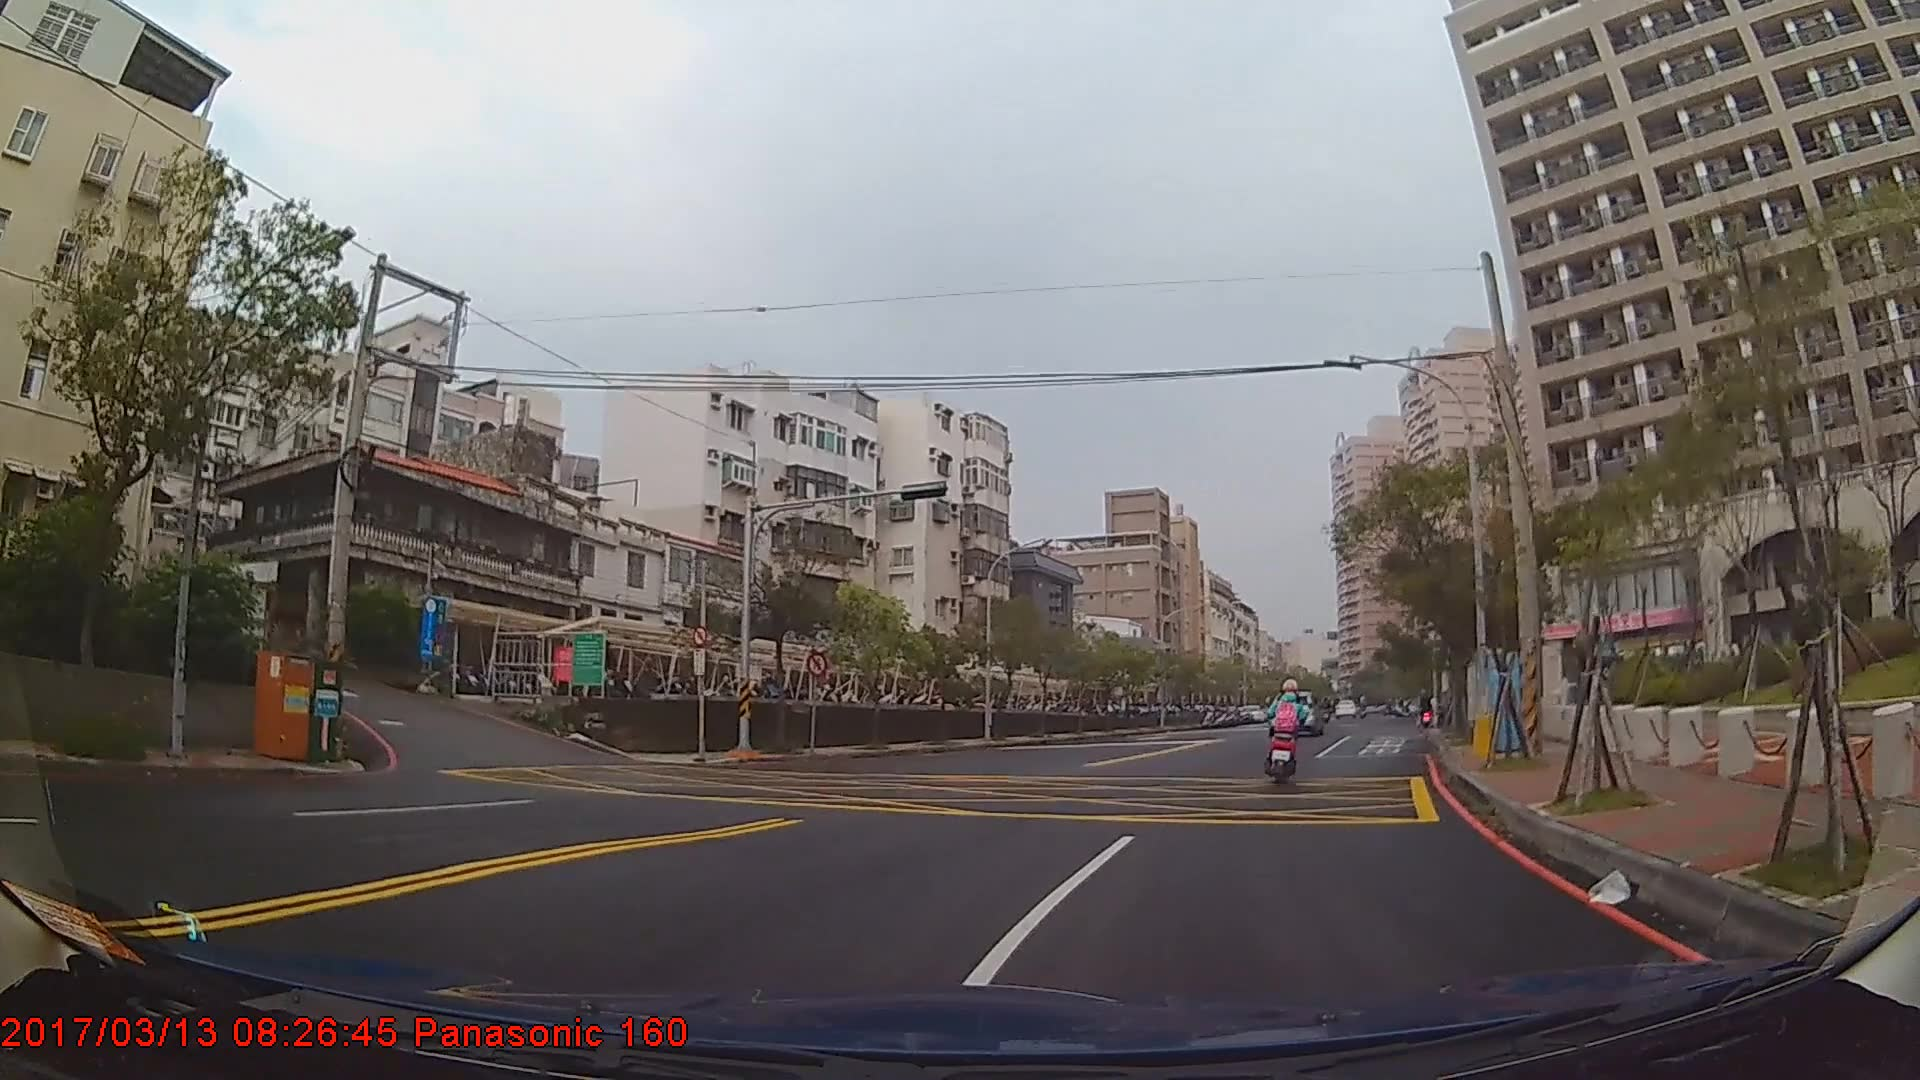rider: (1264, 679, 1311, 781)
vehicle: (1264, 686, 1324, 735)
